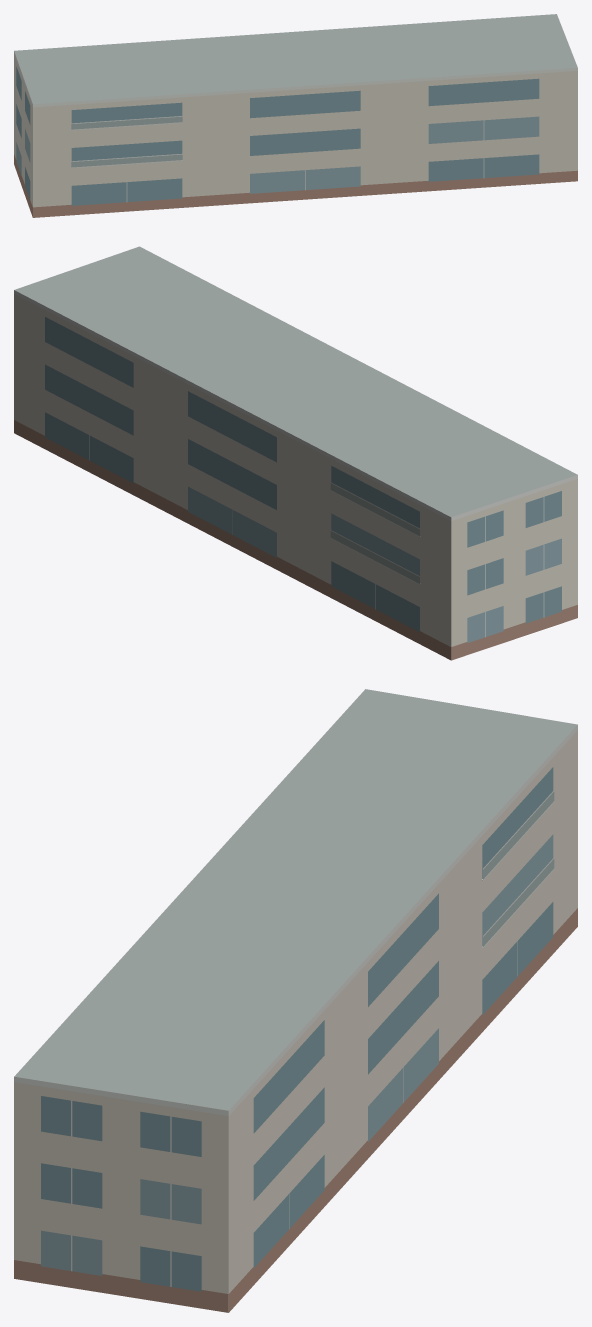
Rendered from survey-upis-32518871.glb.
The picture shows the model from 3 angles, top to bottom: view 1: azimuth 30°, elevation 25°; view 2: azimuth 150°, elevation 25°; view 3: azimuth 270°, elevation 25°; orthographic projection. The views are drawn at different scales.
Visible parts, largest first — view 1: survey-upis-32518871.tmp; view 2: survey-upis-32518871.tmp; view 3: survey-upis-32518871.tmp.
Part boxes in pixels (left/top/right/bottom): survey-upis-32518871.tmp: left=14, top=14, right=577, bottom=217; survey-upis-32518871.tmp: left=14, top=246, right=577, bottom=660; survey-upis-32518871.tmp: left=14, top=689, right=577, bottom=1312.
Size of the model in its own units: 40.96 by 9.15 by 23.14.
